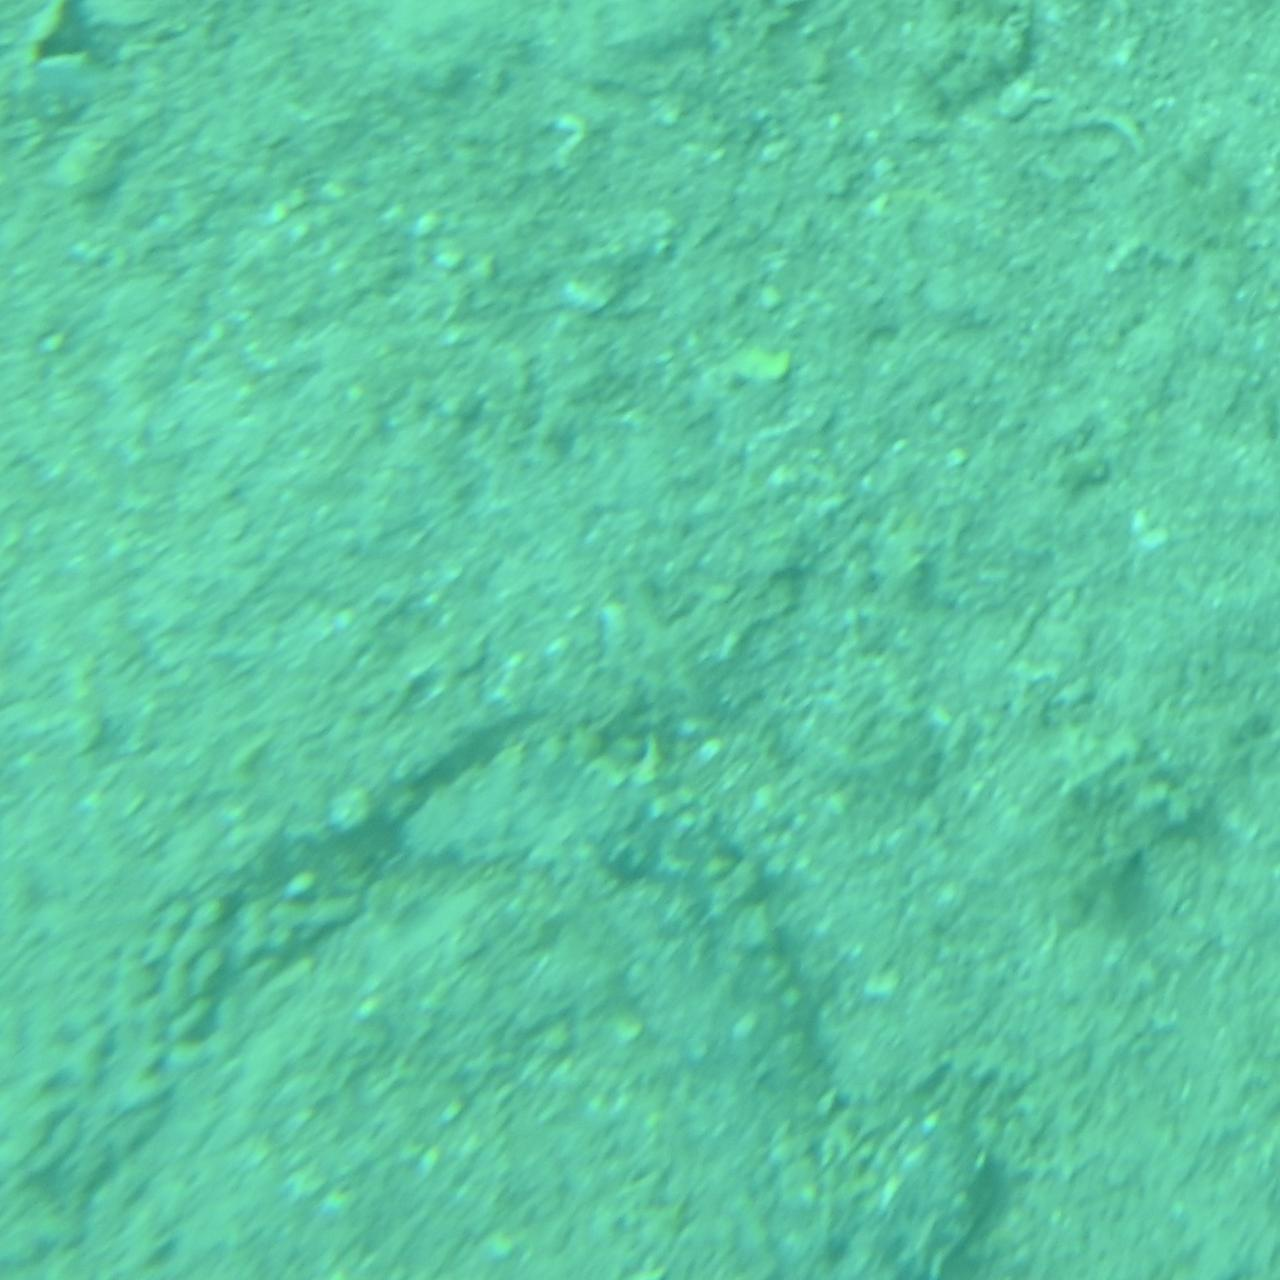Holothuria tubulosa: (392, 722, 888, 1126)
